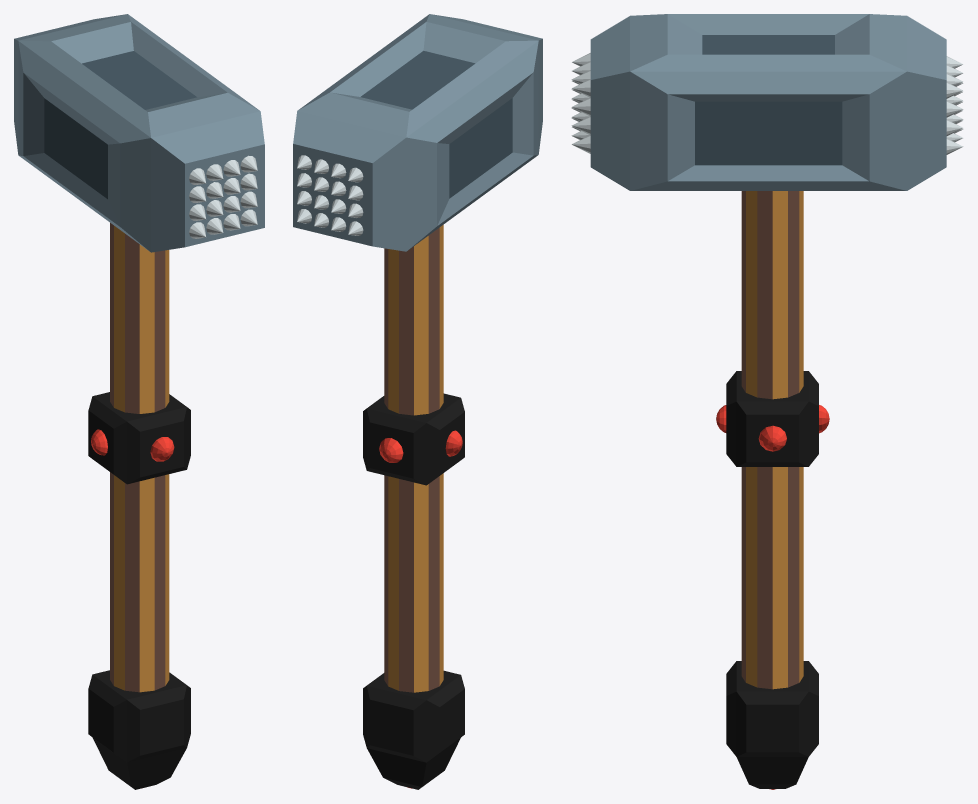
The model's file is scene_P1hlsCv3Qs.glb.
3 views of the same model, side by side, from view 1: azimuth 30°, elevation 25°; view 2: azimuth 150°, elevation 25°; view 3: azimuth 270°, elevation 25° (orthographic). The views are drawn at different scales.
Parts seen in each view (by area): view 1: Node; view 2: Node; view 3: Node.
Part boxes in pixels (box(x1,y1,x2,y2)): Node: box(14, 14, 264, 789); Node: box(293, 14, 542, 789); Node: box(571, 14, 963, 789).
Size of the model in its own units: 0.3156 by 1.61 by 0.76.
